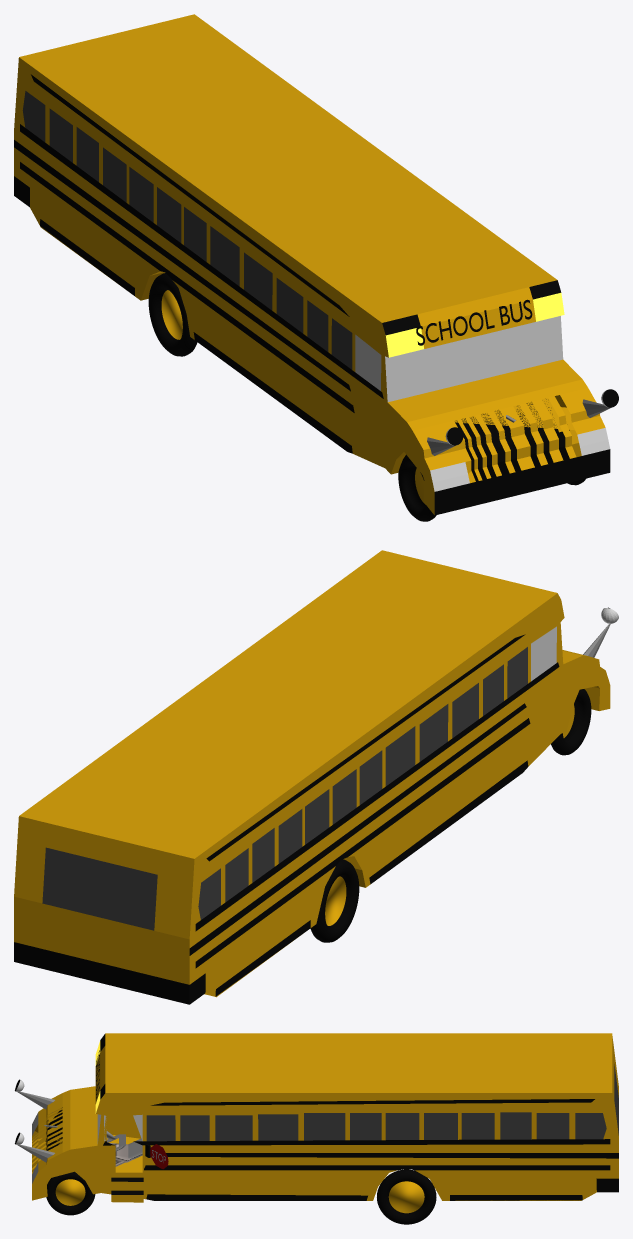
Rendered from schoolBusdoublesided2.fbx.
The picture shows the model from 3 angles, top to bottom: view 1: azimuth 30°, elevation 25°; view 2: azimuth 150°, elevation 25°; view 3: azimuth 270°, elevation 25°; orthographic projection. The views are drawn at different scales.
Visible parts, largest first — view 1: Bus, Bus.001, BackWheels, FrontWheels; view 2: Bus, Bus.001, BackWheels, FrontWheels; view 3: Bus, Bus.001, BackWheels, FrontWheels, Stairs, Chair, Door, Stop.
Boxes of the visible parts, left/top/right/bottom form: Bus: left=14, top=14, right=618, bottom=515; Bus.001: left=14, top=14, right=618, bottom=514; BackWheels: left=148, top=273, right=197, bottom=356; FrontWheels: left=398, top=454, right=585, bottom=521; Bus: left=14, top=550, right=618, bottom=1004; Bus.001: left=14, top=552, right=617, bottom=994; BackWheels: left=310, top=859, right=359, bottom=942; FrontWheels: left=551, top=689, right=591, bottom=755; Bus: left=14, top=1033, right=618, bottom=1200; Bus.001: left=15, top=1033, right=618, bottom=1200; BackWheels: left=377, top=1168, right=436, bottom=1224; FrontWheels: left=45, top=1141, right=95, bottom=1215; Stairs: left=111, top=1177, right=143, bottom=1202; Chair: left=107, top=1134, right=142, bottom=1166; Door: left=104, top=1114, right=143, bottom=1172; Stop: left=145, top=1144, right=168, bottom=1169.
Size of the model in its own units: 268 by 233 by 962.
